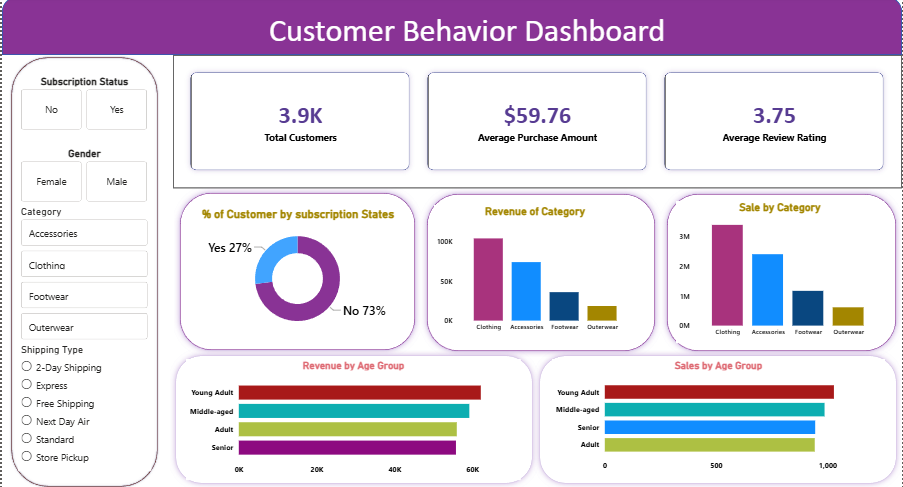

The page's visual inventory and layout, read from the dashboard file:
{"tool":"powerbi","page":{"name":"Page 1","canvas":[1500,820],"ordinal":0},"visuals":[{"type":"cardVisual","fields":{"Data":["public customer.Total Customers","public customer.Average Purchase Amount","public customer.Average Review Rating"]},"box":[285,96.7,1215,221.7],"z":0},{"type":"shape","box":[0,0,1500,96.7],"z":1000},{"type":"textbox","box":[305,16.7,940,80],"z":2000},{"type":"shape","box":[286.7,316.7,411.7,281.7],"z":3000},{"type":"donutChart","title":"% of  Customer by subscription States","fields":{"Category":["public customer.subscription_status"],"Y":["CountNonNull(public customer.customer_id)"]},"box":[305,340,375,236.7],"z":4000},{"type":"shape","box":[698.3,318.3,400,281.7],"z":5000},{"type":"shape","box":[1098.3,318.3,401.7,281.7],"z":6000},{"type":"clusteredColumnChart","title":"Revenue of Category","fields":{"Category":["public customer.category"],"Y":["Sum(public customer.purchase_amount)"]},"box":[720,346.7,336.7,221.7],"z":7000},{"type":"clusteredColumnChart","title":"Sale by Category","fields":{"Category":["public customer.category"],"Y":["Sum(public customer.customer_id)"]},"box":[1123.3,340,346.7,236.7],"z":8000},{"type":"shape","box":[11.7,96.7,251.7,723.3],"z":9000},{"type":"advancedSlicerVisual","fields":{"Values":["public customer.subscription_status"]},"box":[26.7,130,221.7,96.7],"z":10000},{"type":"advancedSlicerVisual","fields":{"Values":["public customer.gender"]},"box":[26.7,250,221.7,96.7],"z":11000},{"type":"listSlicer","fields":{"Values":["public customer.shipping_type"]},"box":[26.7,576.7,221.7,213.3],"z":12000},{"type":"advancedSlicerVisual","fields":{"Values":["public customer.category"]},"box":[26.7,346.7,221.7,230],"z":13000},{"type":"shape","box":[280,588.3,613.3,231.7],"z":14000},{"type":"shape","box":[886.7,588.3,613.3,231.7],"z":15000},{"type":"clusteredBarChart","title":"Revenue by Age Group","fields":{"Y":["Sum(public customer.purchase_amount)"],"Category":["public customer.age_group"]},"box":[306.7,603.3,558.3,201.7],"z":16000},{"type":"clusteredBarChart","title":"Sales by Age Group","fields":{"Category":["public customer.age_group"],"Y":["CountNonNull(public customer.customer_id)"]},"box":[916.8,603.4,554.7,196.1],"z":17000}]}

Visuals, with their boxes in screenshot pixels (x1, y1, x2, y2), scaled from the page's 1500x820 canvas onto the 903x487 screenshot:
cardVisual - public customer.Total Customers x public customer.Average Purchase Amount: 172,57,902,189
shape: 0,0,902,57
textbox: 184,10,749,57
shape: 173,188,420,355
"% of  Customer by subscription States" donutChart: 184,202,409,343
shape: 420,189,661,356
shape: 661,189,902,356
"Revenue of Category" clusteredColumnChart: 433,206,636,338
"Sale by Category" clusteredColumnChart: 676,202,885,343
shape: 7,57,159,486
advancedSlicerVisual - public customer.subscription_status: 16,77,150,135
advancedSlicerVisual - public customer.gender: 16,148,150,206
listSlicer - public customer.shipping_type: 16,343,150,469
advancedSlicerVisual - public customer.category: 16,206,150,343
shape: 169,349,538,486
shape: 534,349,902,486
"Revenue by Age Group" clusteredBarChart: 185,358,521,478
"Sales by Age Group" clusteredBarChart: 552,358,886,475
